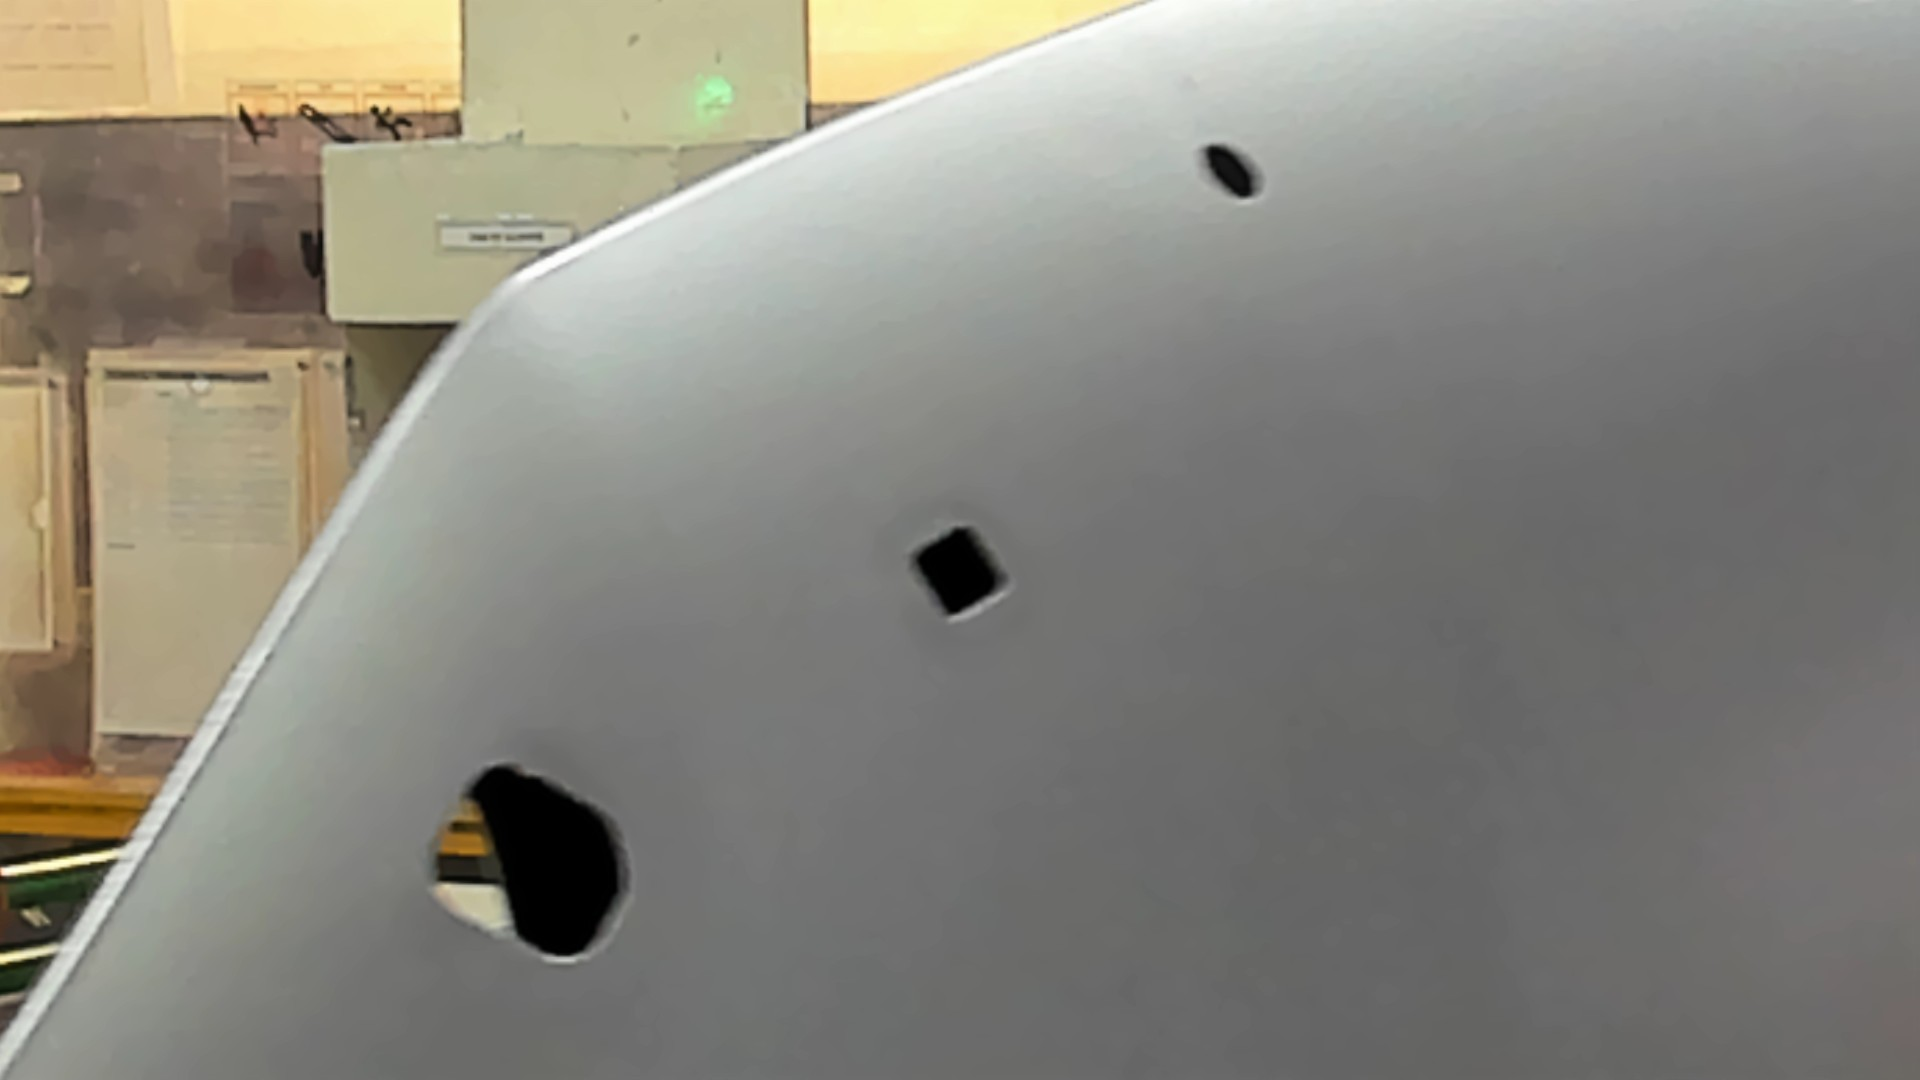chico: (1197, 129, 1271, 214)
grande: (397, 750, 651, 978)
mediano: (899, 505, 1023, 632)
